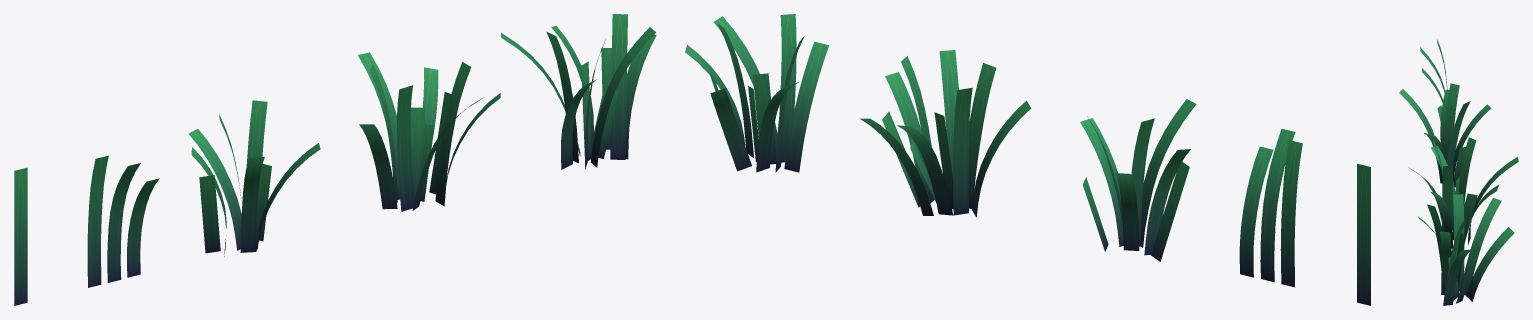
File: maya2sketchfab.fbx
3 renders of one model, left to right at view 1: azimuth 30°, elevation 25°; view 2: azimuth 150°, elevation 25°; view 3: azimuth 270°, elevation 25°, orthographic. The views are drawn at different scales.
Visible parts, largest first — view 1: Grass:Grass_low9 (×2), Grass:Grass_low1 (×2), Grass:Grass_low10 (×2), Grass:Grass_low2 (×2), Grass:Grass_Master, Grass:Grass_low3, Grass:Grass_low8 (×2), Grass:Grass_low6, Grass:Grass_Master1 (×2), Grass:Grass_low11 (×2), Grass:Grass_low4, Grass:Grass_low13 (×2) (+7 smaller); view 2: Grass:Grass_low1 (×2), Grass:Grass_low6 (×2), Grass:Grass_low3 (×2), Grass:Grass_low2 (×2), Grass:Grass_low10 (×2), Grass:Grass_low11 (×2), Grass:Grass_low13 (×2), Grass:Grass_low12 (×2), Grass:Grass_low8 (×2), Grass:Grass_Master, Grass:Grass_low7 (×2), Grass:Grass_Master1 (×2) (+5 smaller); view 3: Grass:Grass_low12 (×2), Grass:Grass_low11 (×2), Grass:Grass_low13 (×2), Grass:Grass_low7 (×2), Grass:Grass_low9 (×2), Grass:Grass_Master3 (×2), Grass:Grass_low3, Grass:Grass_low8 (×2), Grass:Grass_low1 (×2), Grass:Grass_low5, Grass:Grass_low4, Grass:Grass_low2 (×2) (+6 smaller).
Boxes of the visible parts, x1=… form: Grass:Grass_low9 (×2): x1=435, y1=14, x2=627, y2=206; Grass:Grass_low1 (×2): x1=107, y1=157, x2=264, y2=282; Grass:Grass_low10 (×2): x1=359, y1=79, x2=596, y2=209; Grass:Grass_low2 (×2): x1=127, y1=143, x2=320, y2=277; Grass:Grass_Master: x1=14, y1=167, x2=27, y2=305; Grass:Grass_low3: x1=87, y1=155, x2=108, y2=287; Grass:Grass_low8 (×2): x1=412, y1=27, x2=655, y2=210; Grass:Grass_low6: x1=396, y1=85, x2=414, y2=211; Grass:Grass_Master1 (×2): x1=410, y1=61, x2=591, y2=199; Grass:Grass_low11 (×2): x1=369, y1=31, x2=578, y2=202; Grass:Grass_low4: x1=188, y1=129, x2=241, y2=250; Grass:Grass_low13 (×2): x1=422, y1=26, x2=593, y2=141; Grass:Grass_low1 (×2): x1=1140, y1=99, x2=1295, y2=282; Grass:Grass_low6 (×2): x1=779, y1=14, x2=996, y2=209; Grass:Grass_low3 (×2): x1=1131, y1=118, x2=1302, y2=287; Grass:Grass_low2 (×2): x1=1080, y1=118, x2=1273, y2=277; Grass:Grass_low10 (×2): x1=784, y1=41, x2=1031, y2=217; Grass:Grass_low11 (×2): x1=775, y1=36, x2=972, y2=215; Grass:Grass_low13 (×2): x1=710, y1=88, x2=933, y2=215; Grass:Grass_low12 (×2): x1=756, y1=82, x2=953, y2=215; Grass:Grass_low8 (×2): x1=713, y1=16, x2=958, y2=179; Grass:Grass_Master: x1=1357, y1=163, x2=1370, y2=305; Grass:Grass_low7 (×2): x1=685, y1=45, x2=929, y2=199; Grass:Grass_Master1 (×2): x1=752, y1=73, x2=953, y2=209; Grass:Grass_low12 (×2): x1=1460, y1=157, x2=1518, y2=295; Grass:Grass_low11 (×2): x1=1453, y1=137, x2=1476, y2=291; Grass:Grass_low13 (×2): x1=1466, y1=184, x2=1514, y2=301; Grass:Grass_low7 (×2): x1=1429, y1=191, x2=1471, y2=305; Grass:Grass_low9 (×2): x1=1442, y1=165, x2=1467, y2=283; Grass:Grass_Master3 (×2): x1=1456, y1=193, x2=1481, y2=303; Grass:Grass_low3: x1=1443, y1=83, x2=1459, y2=159; Grass:Grass_low8 (×2): x1=1408, y1=167, x2=1451, y2=294; Grass:Grass_low1 (×2): x1=1399, y1=47, x2=1444, y2=180; Grass:Grass_low5: x1=1447, y1=101, x2=1470, y2=165; Grass:Grass_low4: x1=1453, y1=104, x2=1491, y2=179; Grass:Grass_low2 (×2): x1=1422, y1=68, x2=1447, y2=183.
Size of the model in its own units: 6814 by 1382 by 1605.
Materials: 1 (1 with a texture image).
